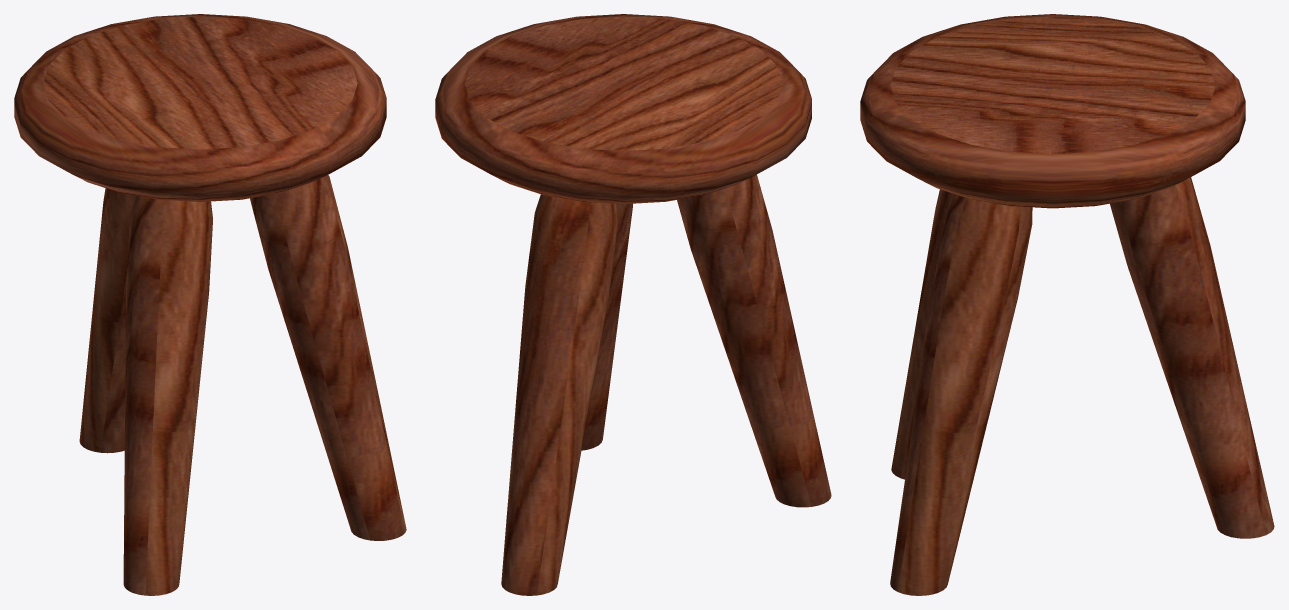
Rendered from 3LeggedStool.fbx.
3 renders of one model, left to right at view 1: azimuth 30°, elevation 25°; view 2: azimuth 150°, elevation 25°; view 3: azimuth 270°, elevation 25°, orthographic. The views are drawn at different scales.
Parts seen in each view (by area): view 1: default; view 2: default; view 3: default.
Part boxes in pixels (x1,y1,x2,y2): default: (14,14,406,595); default: (435,14,831,595); default: (860,14,1274,595).
Bounding box in the file's own units: 33.46 × 42.27 × 35.96.
